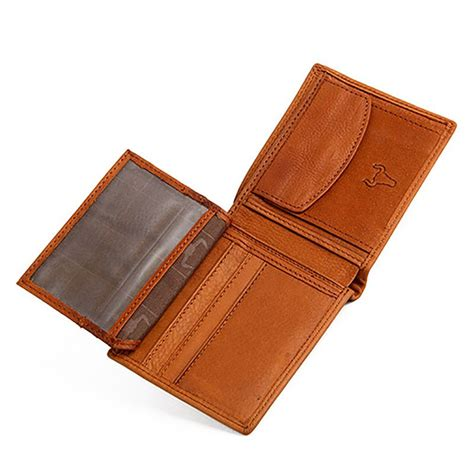cuero: (16, 60, 456, 438)
